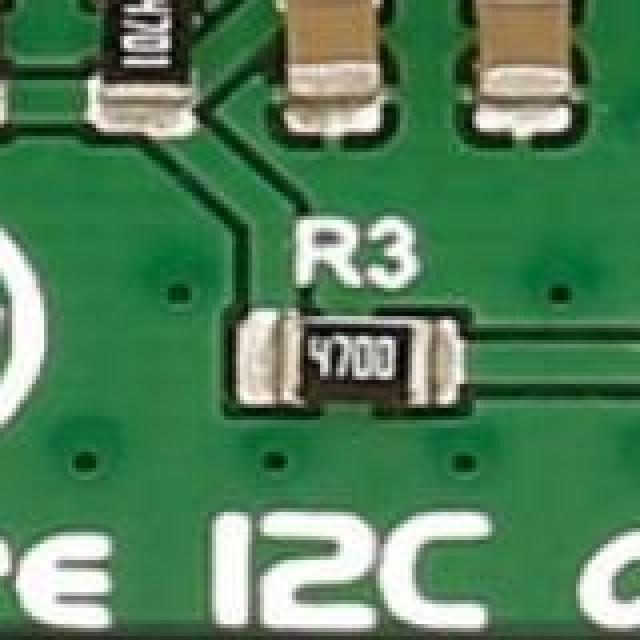capacitor: (472, 0, 584, 144), (280, 0, 388, 140)
resistor: (248, 304, 470, 422), (88, 0, 192, 132), (0, 0, 16, 136)
